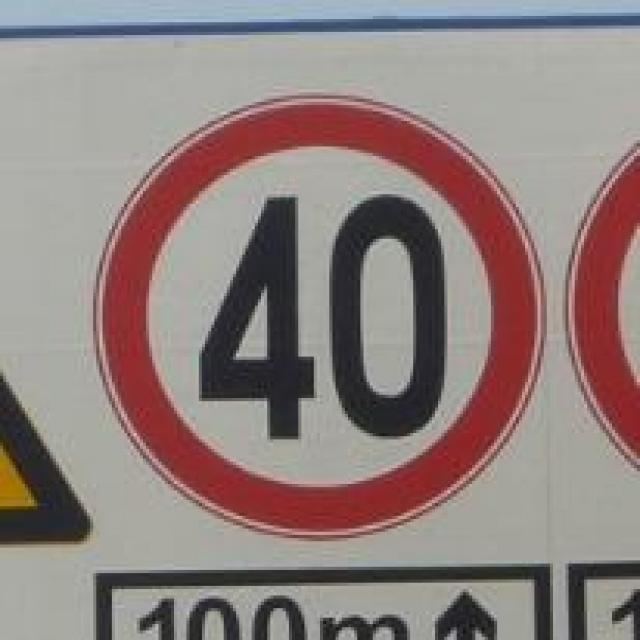speed limit 40: (87, 95, 550, 542)
